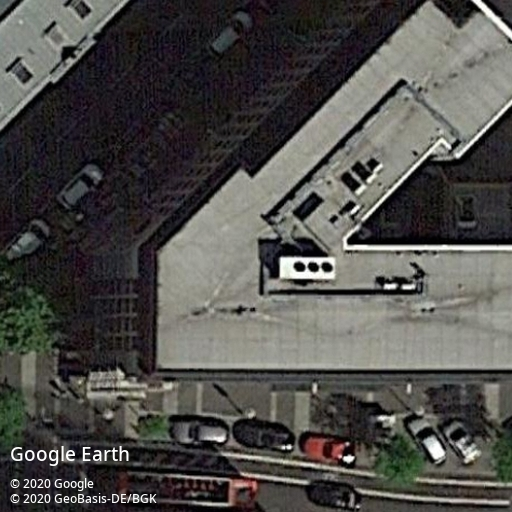Chiller: (278, 254, 338, 280)
